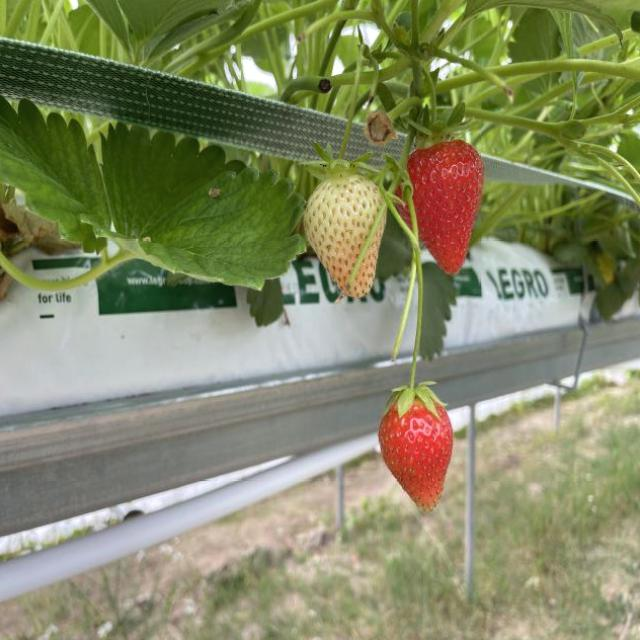stem: (385, 273, 442, 416), (307, 113, 381, 192)
strawberryNR: (303, 173, 385, 297)
strawberryR: (408, 140, 481, 272), (380, 403, 453, 510)
